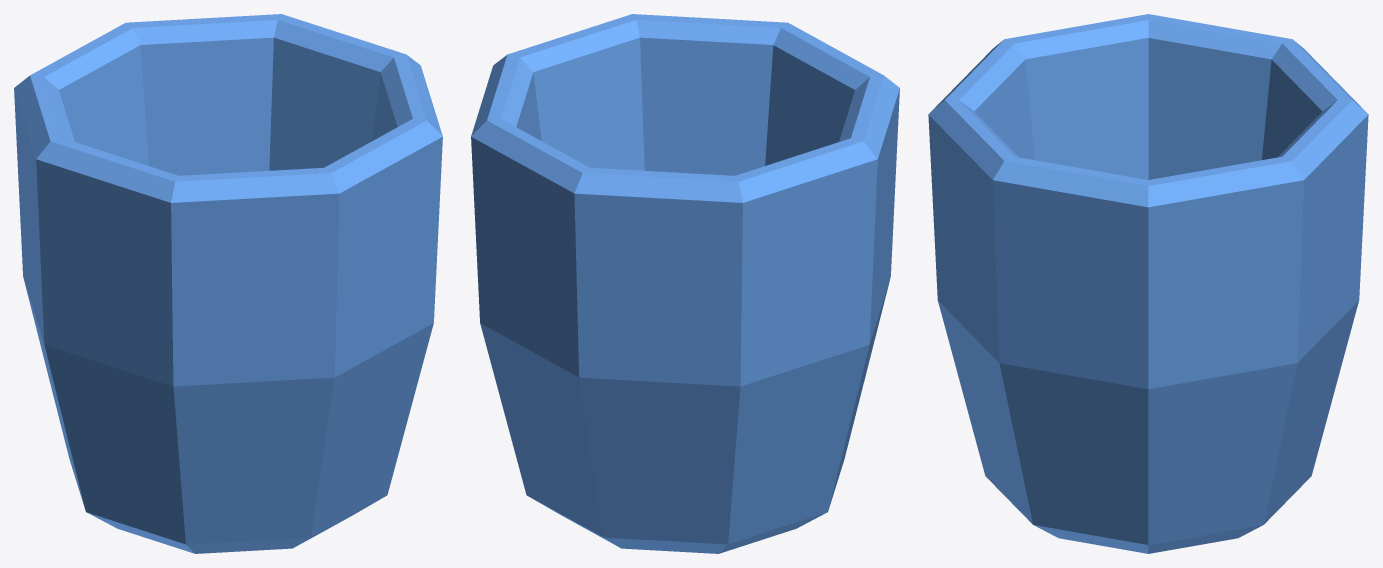
The model's file is Cup.fbx.
3 views of the same model, side by side, from view 1: azimuth 30°, elevation 25°; view 2: azimuth 150°, elevation 25°; view 3: azimuth 270°, elevation 25° (orthographic).
Parts seen in each view (by area): view 1: Cup; view 2: Cup; view 3: Cup.
Part boxes in pixels (left/top/right/bottom): Cup: left=14, top=14, right=442, bottom=553; Cup: left=471, top=14, right=899, bottom=553; Cup: left=928, top=14, right=1368, bottom=553.
Bounding box in the file's own units: 0.0744 × 0.0747 × 0.0744.
Materials: 1 (1 with a texture image).
